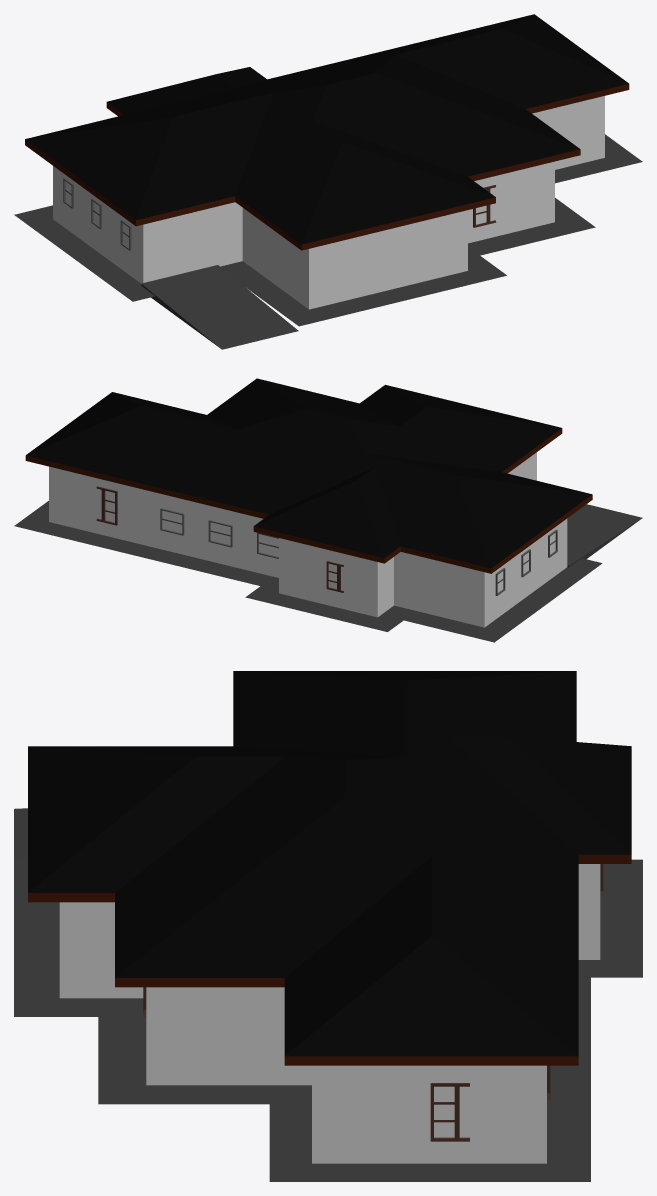
3 views of the same model, one above another, from view 1: azimuth 30°, elevation 25°; view 2: azimuth 150°, elevation 25°; view 3: azimuth 270°, elevation 25° (orthographic). The views are drawn at different scales.
Parts seen in each view (by area): view 1: roof, Plane, base.001, base.002, roof.001, base; view 2: roof, Plane, base.001, roof.001, base.002, base, Windows.001; view 3: roof, Plane, base.001, roof.001, base, Windows.013, base.002.
Boxes of the visible parts, box(x1,y1,x2,y2) form: roof: box(25, 14, 628, 244); Plane: box(53, 96, 604, 307); base.001: box(14, 134, 642, 326); base.002: box(141, 265, 298, 349); roof.001: box(25, 84, 629, 250); base: box(53, 155, 604, 309); roof: box(26, 378, 591, 568); Plane: box(49, 452, 567, 625); base.001: box(14, 501, 602, 642); roof.001: box(25, 428, 592, 573); base.002: box(567, 504, 642, 567); base: box(49, 520, 567, 627); Windows.001: box(96, 486, 117, 525); roof: box(28, 671, 631, 1056); Plane: box(59, 864, 600, 1159); base.001: box(14, 859, 642, 1181); roof.001: box(28, 854, 631, 1065); base: box(59, 956, 600, 1163); Windows.013: box(430, 1083, 469, 1141); base.002: box(14, 808, 27, 859).
Size of what is drawn, in the model's own units: 23.82 by 5.83 by 15.94.
